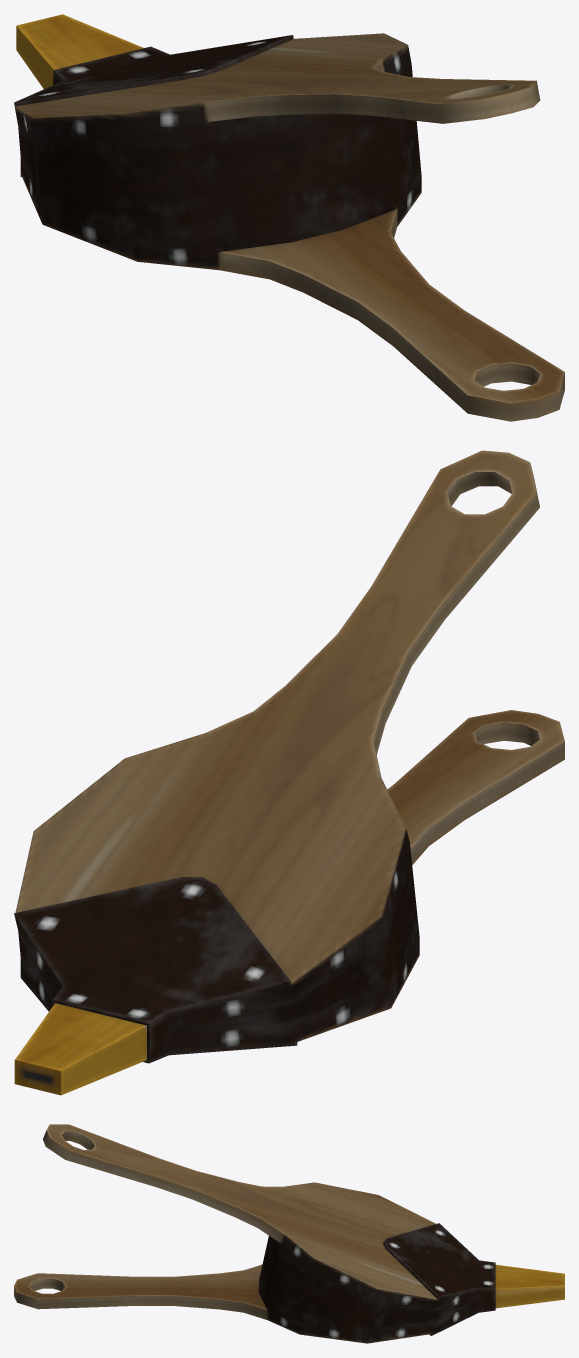
The model's file is sb_obj_indoor012_BlackSmith_item03.fbx.
3 renders of one model, top to bottom at view 1: azimuth 30°, elevation 25°; view 2: azimuth 150°, elevation 25°; view 3: azimuth 270°, elevation 25°, orthographic. The views are drawn at different scales.
Parts seen in each view (by area): view 1: sb_obj_indoor012_BlackSmith_item03; view 2: sb_obj_indoor012_BlackSmith_item03; view 3: sb_obj_indoor012_BlackSmith_item03.
Boxes of the visible parts, left/top/right/bottom form: sb_obj_indoor012_BlackSmith_item03: left=14, top=14, right=564, bottom=421; sb_obj_indoor012_BlackSmith_item03: left=14, top=450, right=564, bottom=1095; sb_obj_indoor012_BlackSmith_item03: left=14, top=1124, right=564, bottom=1343.
Bounding box in the file's own units: 0.3025 × 0.2524 × 0.7486.
